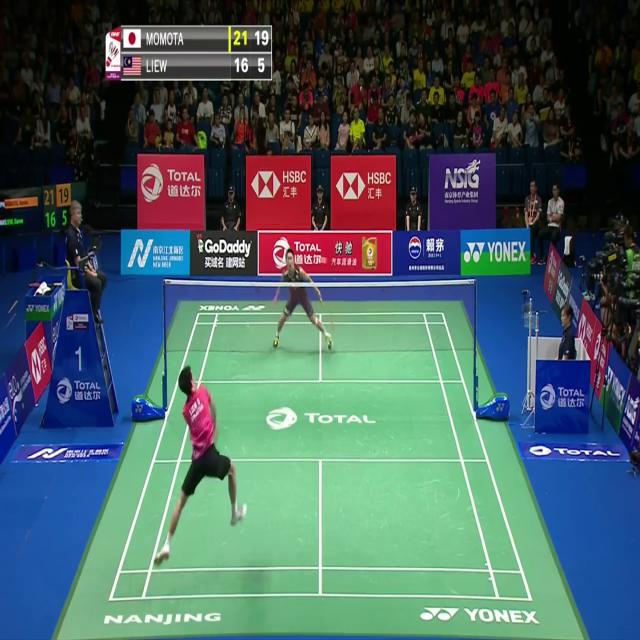Shuttlecock: (322, 255, 328, 266)
